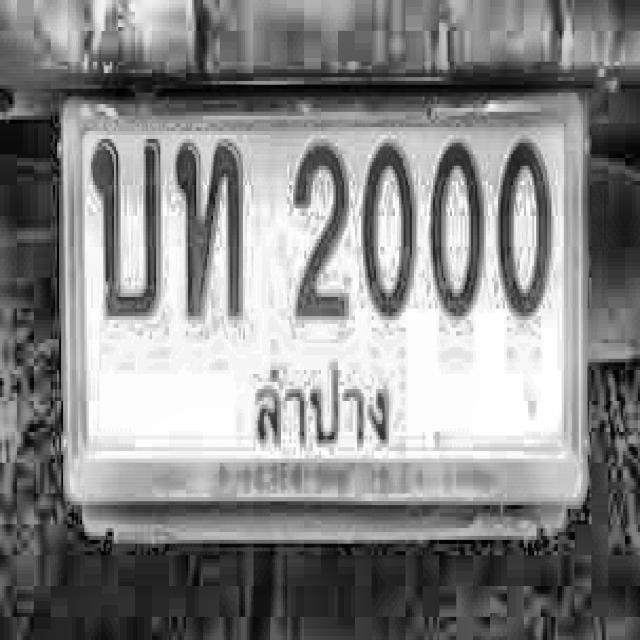license-plate: (59, 79, 596, 550)
